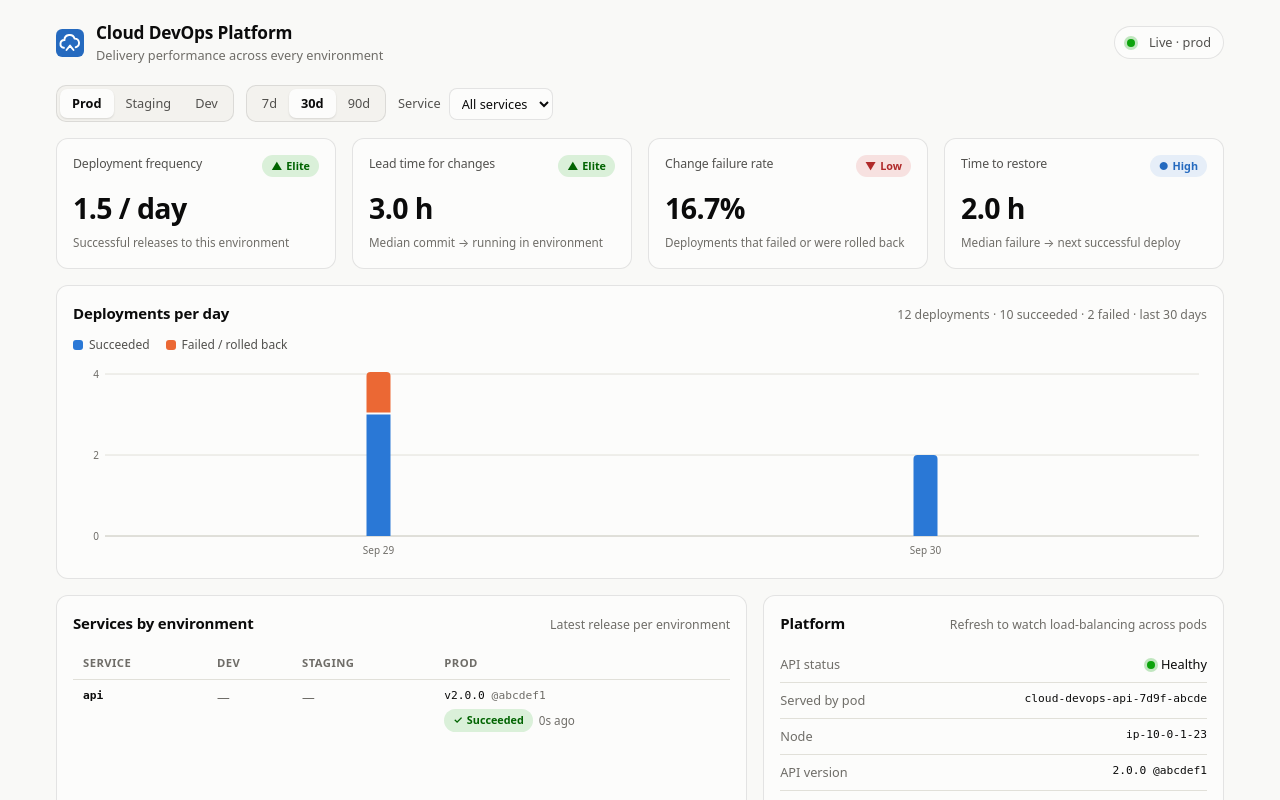
Test: <App /> › re-queries metrics when the environment filter changes
Expected: the text "1.5 / day" is shown, [73,189,187,227]
Click the button "dev": (206, 104) [183,89,230,118]
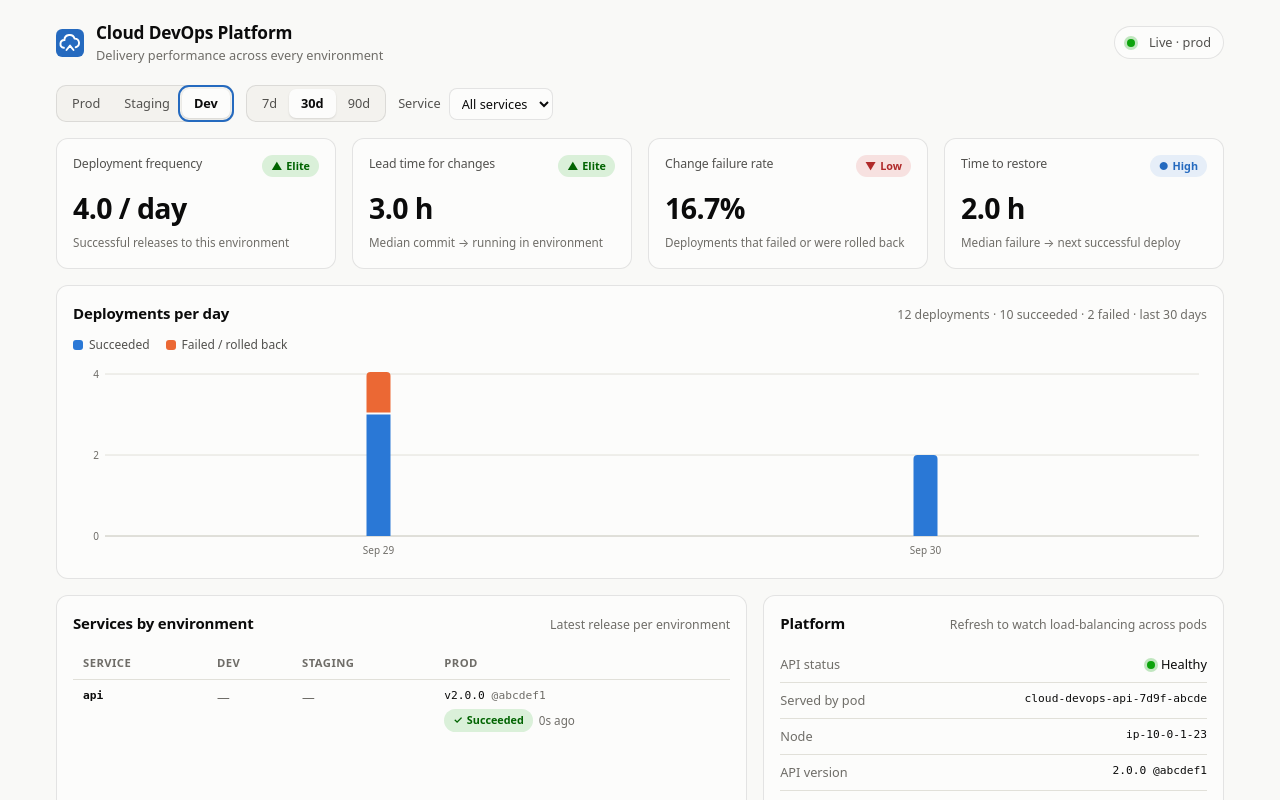
Expected: the text "4.0 / day" is shown, [73,189,187,227]
